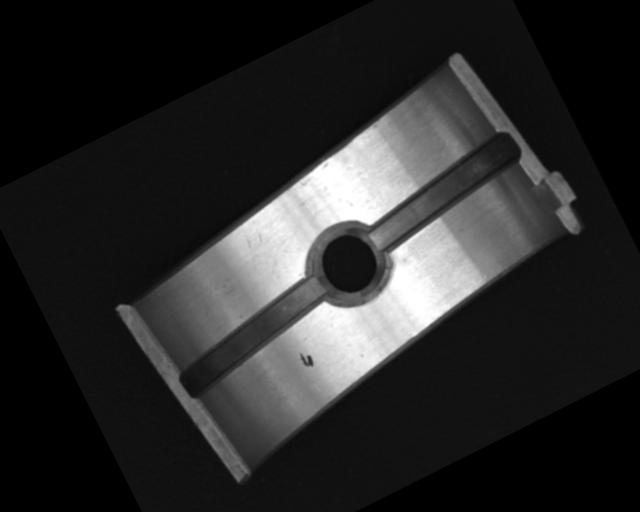blot: (297, 348, 315, 370)
gap: (350, 127, 534, 258), (164, 269, 341, 398)
hole: (298, 214, 394, 313)
